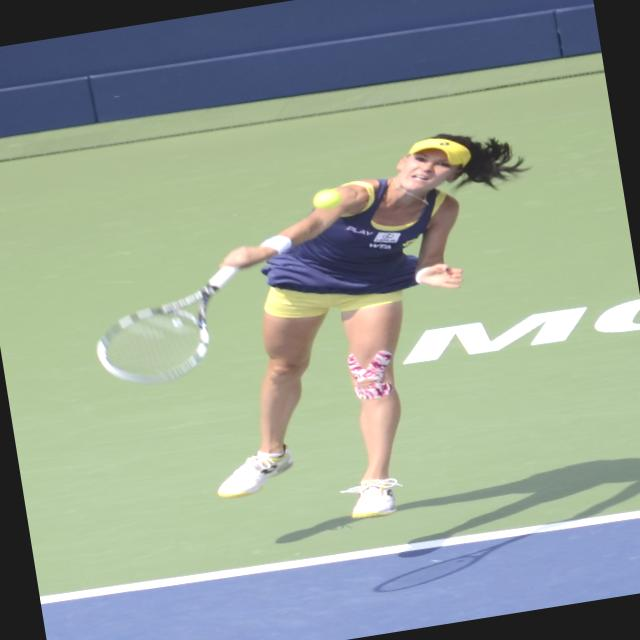Tennis Ball: (312, 187, 338, 210)
